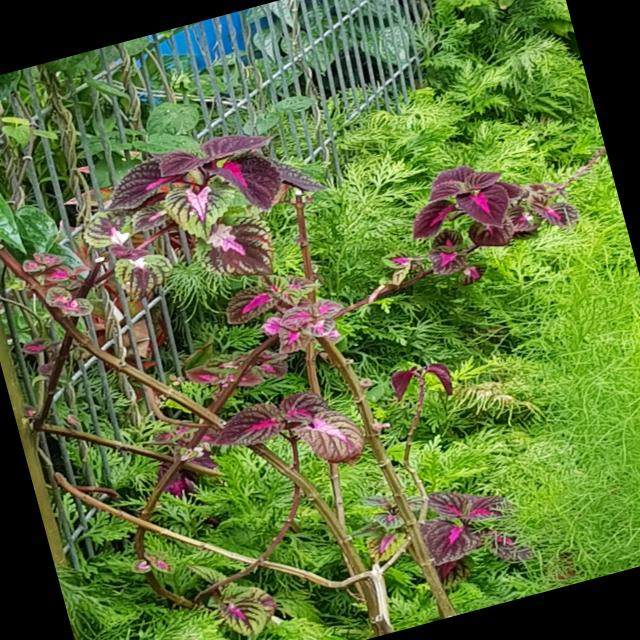Coleus: (178, 347, 390, 522), (99, 107, 323, 267), (412, 138, 584, 273), (358, 460, 511, 594)
Dill: (531, 306, 640, 577)
